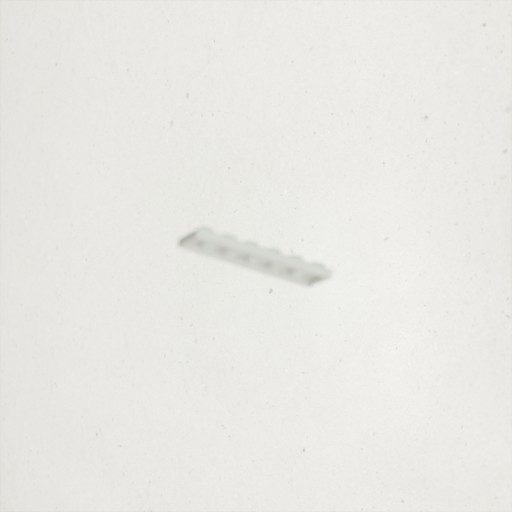lego: (176, 225, 334, 288)
